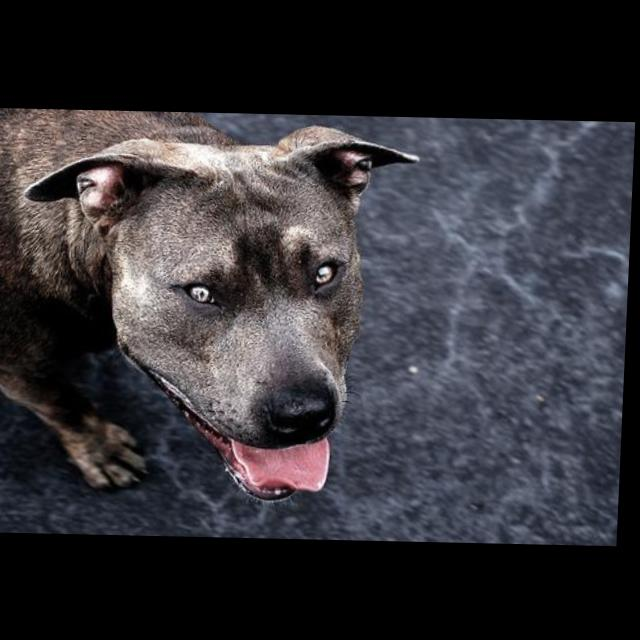amstaff: (1, 109, 423, 508)
